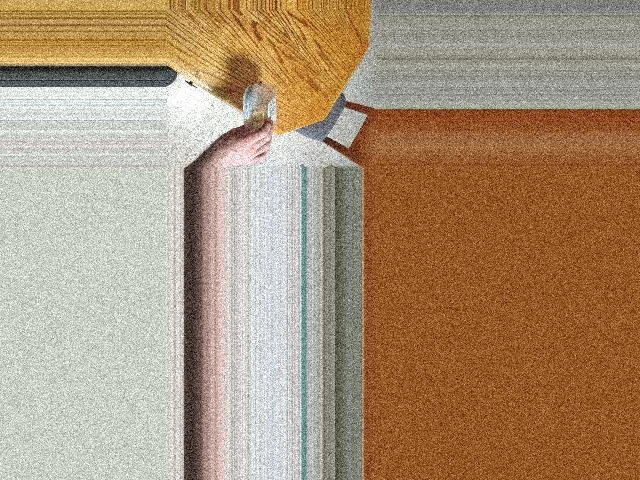cheese: (231, 87, 286, 152)
